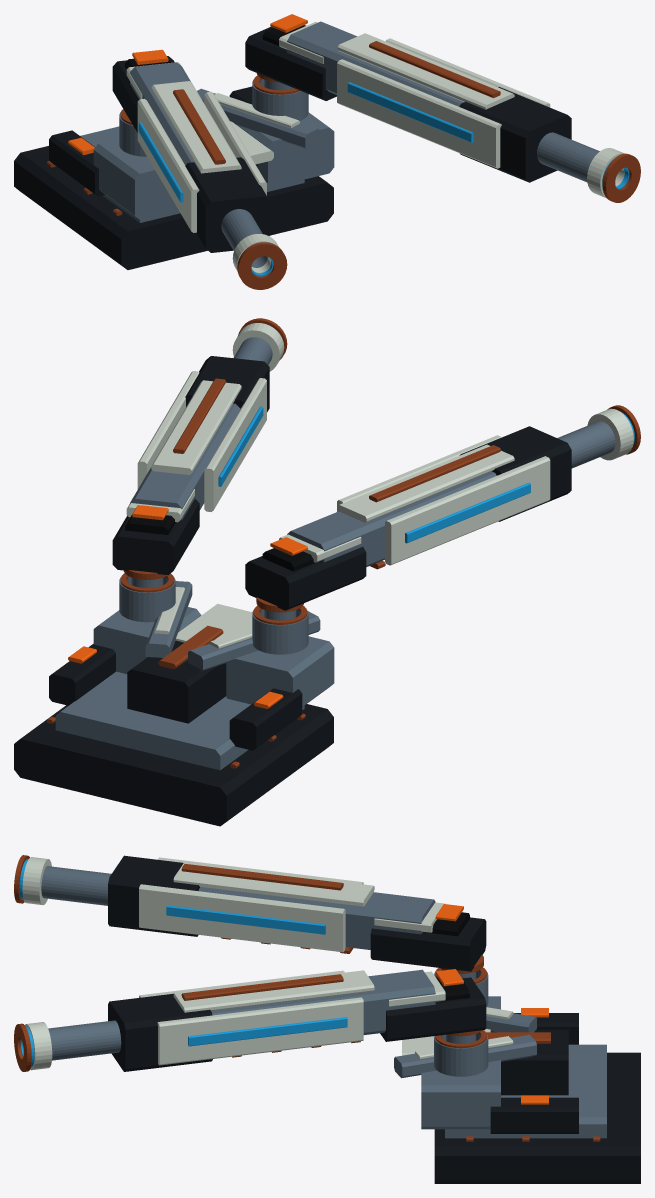
Rendered from M01-015_bidirectional_turret.obj.
3 views of the same model, one above another, from view 1: azimuth 30°, elevation 25°; view 2: azimuth 150°, elevation 25°; view 3: azimuth 270°, elevation 25° (orthographic). The views are drawn at different scales.
Parts seen in each view (by area): view 1: Mount_Top_Socket, Arm_Flank_RA, Arm_Front_Shell_R, Arm_Front_Shell_L, Pedestal_L, Arm_Dorsal_Ceramic_R, Pedestal_R, Arm_Dorsal_Ceramic_L, Arm_Long_Carrier_R, Arm_Root_R, Arm_Flank_LA, Arm_Long_Carrier_L (+23 smaller); view 2: Mount_Top_Socket, Mount_Grip_Titanium, Arm_Flank_LA, V_Central_Keel, Pedestal_L, Arm_Root_L, Arm_Long_Carrier_L, Arm_Root_R, Arm_Dorsal_Ceramic_L, Arm_Dorsal_Ceramic_R, Arm_Front_Shell_L, Arm_Long_Carrier_R (+22 smaller); view 3: Mount_Top_Socket, Arm_Flank_LB, Arm_Flank_RB, Pedestal_R, Mount_Grip_Titanium, Arm_Root_L, Arm_Front_Shell_R, Arm_Long_Carrier_L, Arm_Root_R, Arm_Front_Shell_L, Arm_Long_Carrier_R, V_Central_Keel (+22 smaller).
Part boxes in pixels (box(x1,y1,x2,y2)): Mount_Top_Socket: box(14, 146, 333, 269); Arm_Flank_RA: box(337, 59, 501, 168); Arm_Front_Shell_R: box(459, 87, 571, 182); Arm_Front_Shell_L: box(185, 157, 269, 252); Pedestal_L: box(93, 138, 178, 219); Arm_Dorsal_Ceramic_R: box(337, 33, 514, 109); Pedestal_R: box(239, 112, 334, 187); Arm_Dorsal_Ceramic_L: box(151, 81, 241, 173); Arm_Long_Carrier_R: box(287, 21, 463, 106); Arm_Root_R: box(245, 27, 336, 100); Arm_Flank_LA: box(137, 98, 199, 232); Arm_Long_Carrier_L: box(130, 62, 193, 165); Mount_Top_Socket: box(14, 704, 333, 826); Mount_Grip_Titanium: box(55, 671, 304, 770); Arm_Flank_LA: box(385, 456, 550, 565); V_Central_Keel: box(127, 640, 226, 723); Pedestal_L: box(226, 636, 334, 706); Arm_Root_L: box(245, 547, 366, 610); Arm_Long_Carrier_L: box(287, 471, 496, 566); Arm_Root_R: box(112, 499, 199, 575); Arm_Dorsal_Ceramic_L: box(337, 444, 514, 522); Arm_Dorsal_Ceramic_R: box(151, 380, 241, 474); Arm_Front_Shell_L: box(459, 426, 571, 521); Arm_Long_Carrier_R: box(130, 403, 240, 519); Mount_Top_Socket: box(434, 1052, 640, 1183); Arm_Flank_LB: box(139, 884, 345, 952); Arm_Flank_RB: box(157, 997, 363, 1065); Pedestal_R: box(421, 1060, 500, 1129); Mount_Grip_Titanium: box(445, 1044, 606, 1138); Arm_Root_L: box(370, 917, 486, 971); Arm_Front_Shell_R: box(108, 993, 212, 1071); Arm_Long_Carrier_L: box(198, 887, 435, 949); Arm_Root_R: box(380, 977, 486, 1041); Arm_Front_Shell_L: box(108, 855, 199, 936); Arm_Long_Carrier_R: box(211, 969, 435, 1034); V_Central_Keel: box(490, 1029, 568, 1095).
Size of the model in its own units: 1.51 by 0.7735 by 2.13.
